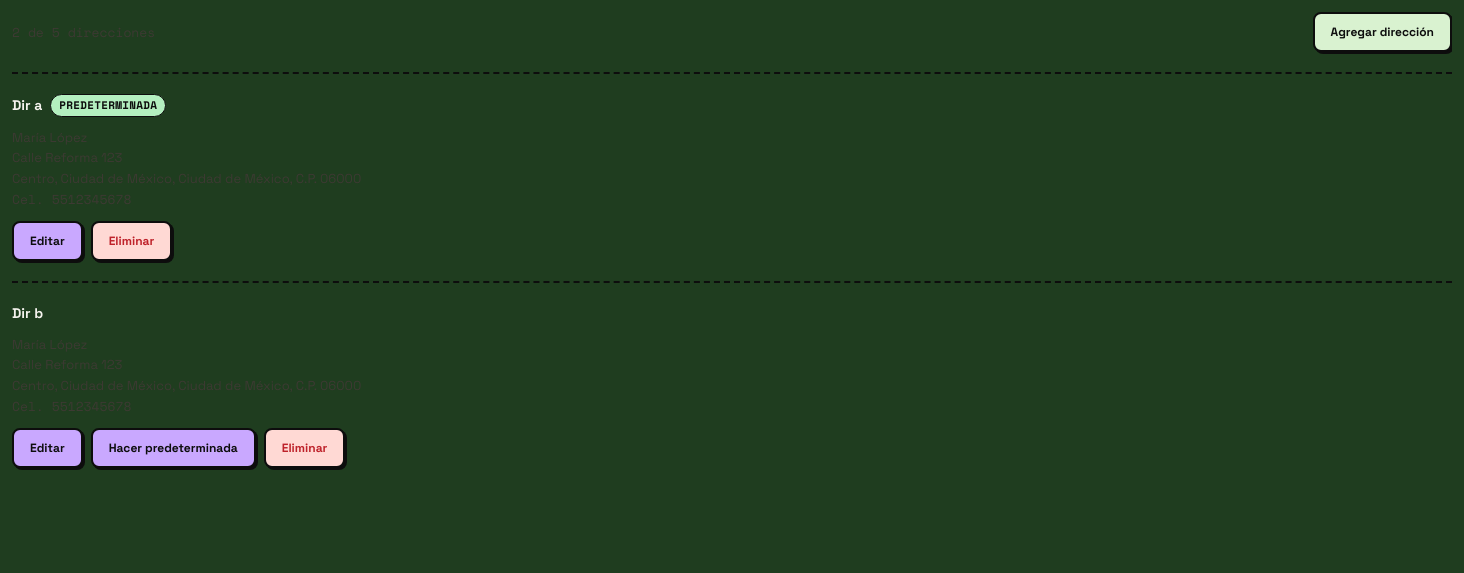
Scenario: AddressesSection › hacer predeterminada reemplaza la lista con la respuesta del servidor
Click the button with aria-label "Hacer predeterminada Dir b".
click(173, 448)  # box [91, 428, 256, 468]
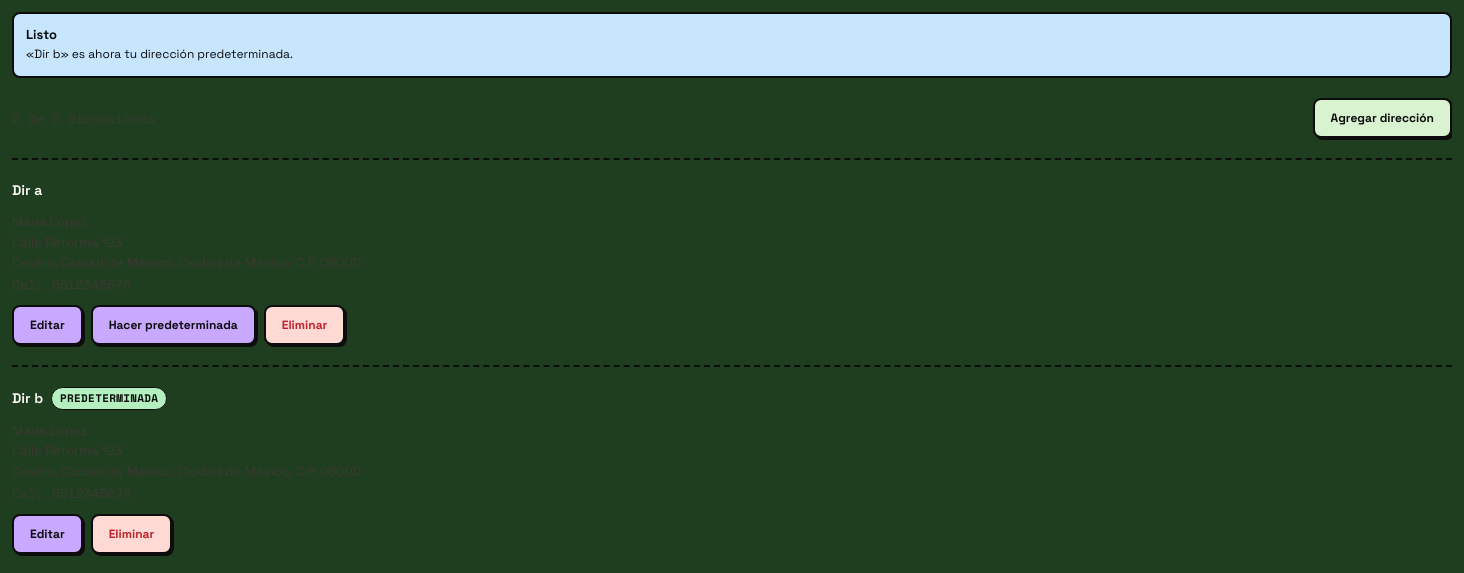
Now the text "«Dir b» es ahora tu dirección predeterminada." is shown, box [26, 46, 293, 62]
Now the button with aria-label "Hacer predeterminada Dir a" is shown, box [91, 305, 256, 345]
